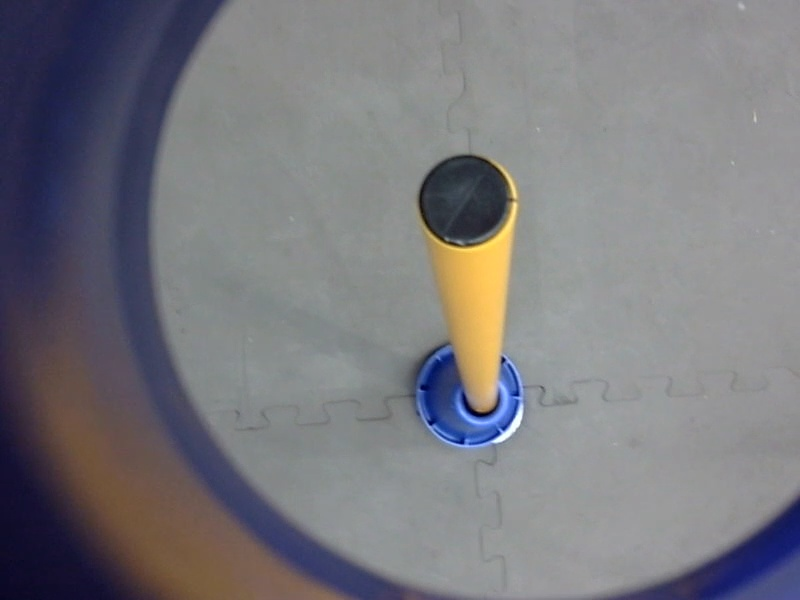tip: (411, 148, 524, 259)
